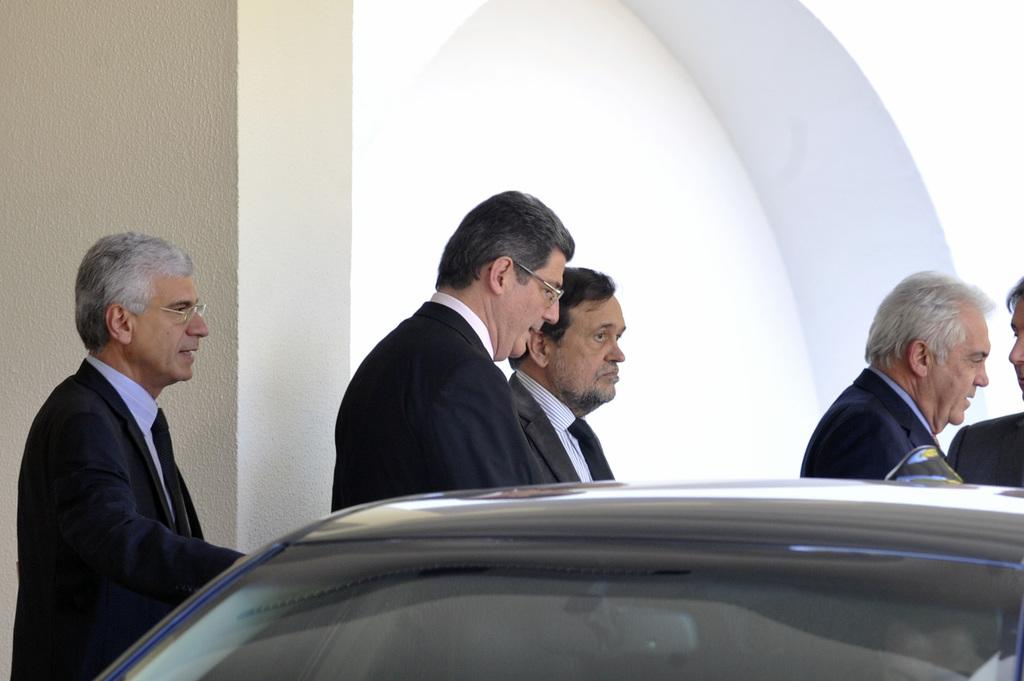Sem Máscara: (543, 294, 626, 406), (131, 269, 211, 378), (921, 306, 987, 422), (1003, 288, 1022, 391)
